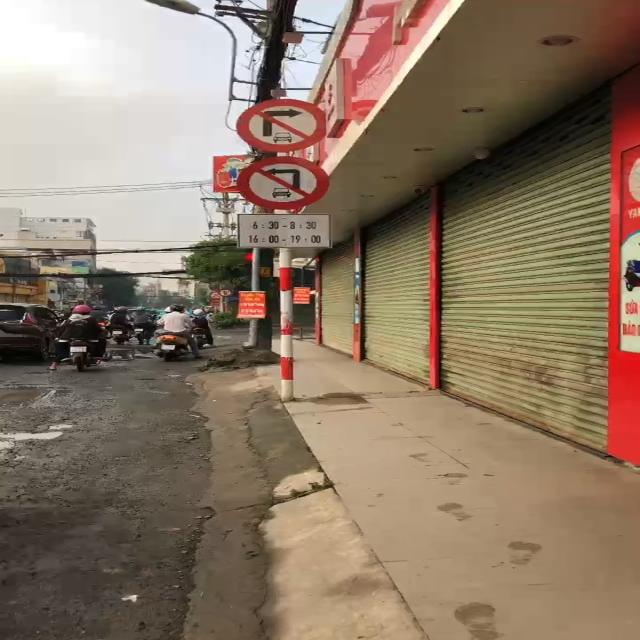Bien bao cam xe o to re phai: (234, 94, 331, 150)
Bien bao cam xe o to re trai: (233, 157, 339, 211)
